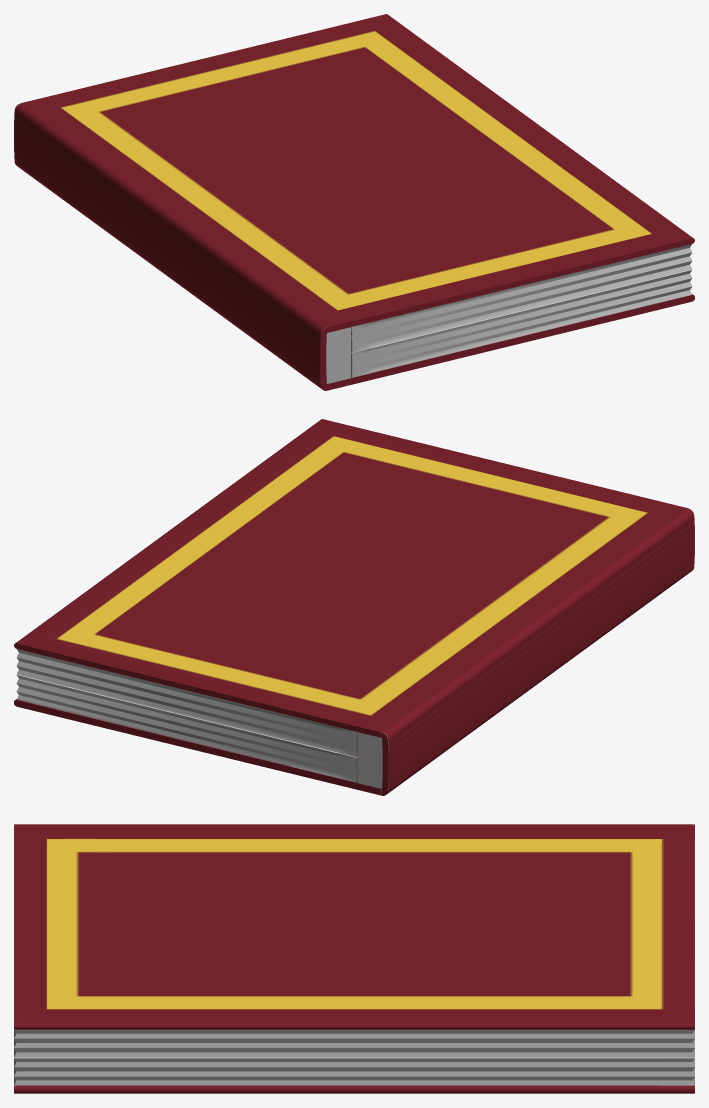
3 views of the same model, one above another, from view 1: azimuth 30°, elevation 25°; view 2: azimuth 150°, elevation 25°; view 3: azimuth 270°, elevation 25° (orthographic). The views are drawn at different scales.
Visible parts, largest first — view 1: 红书; view 2: 红书; view 3: 红书.
Part boxes in pixels (x1,y1,x2,y2): 红书: (14, 14, 694, 390); 红书: (14, 419, 694, 795); 红书: (14, 824, 694, 1093).
Size of the model in its own units: 142 by 22.97 by 202.
